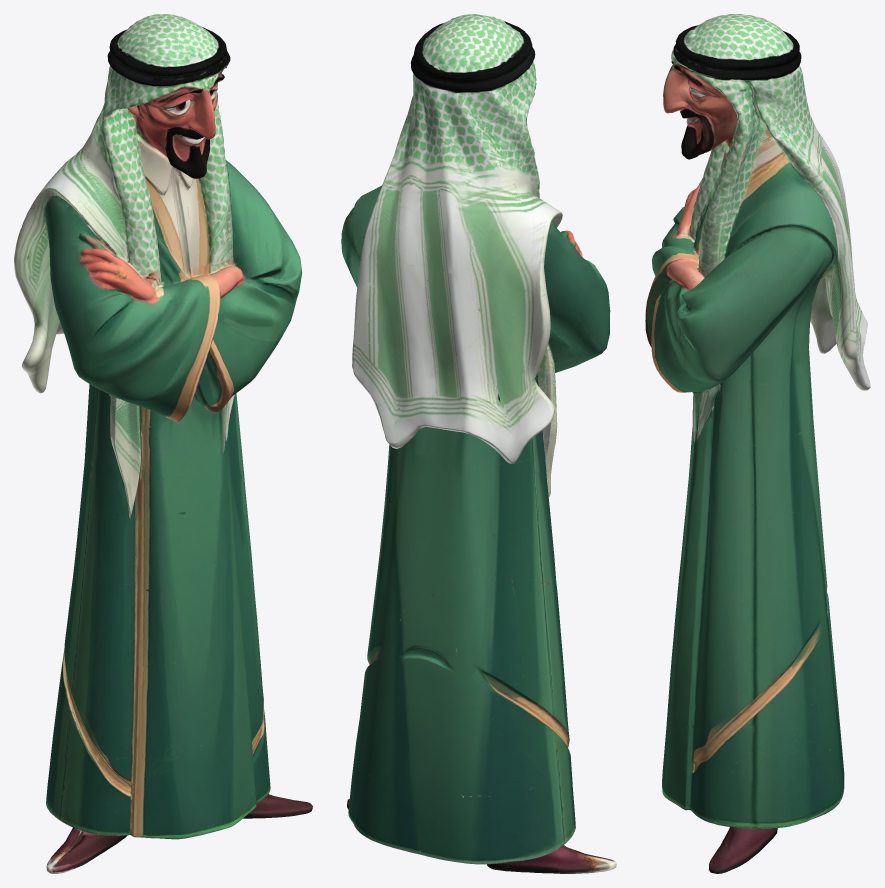
File: emerald_robed.glb
The picture shows the model from 3 angles, left to right: view 1: azimuth 30°, elevation 25°; view 2: azimuth 150°, elevation 25°; view 3: azimuth 270°, elevation 25°; orthographic projection. The views are drawn at different scales.
Bounding box in the file's own units: 0.6441 × 1.9 × 0.4889.
Materials: 1 (1 with a texture image).
